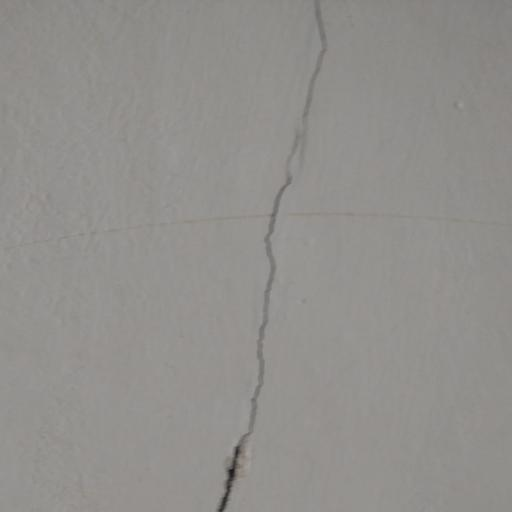minor_crack: (208, 0, 343, 512)
